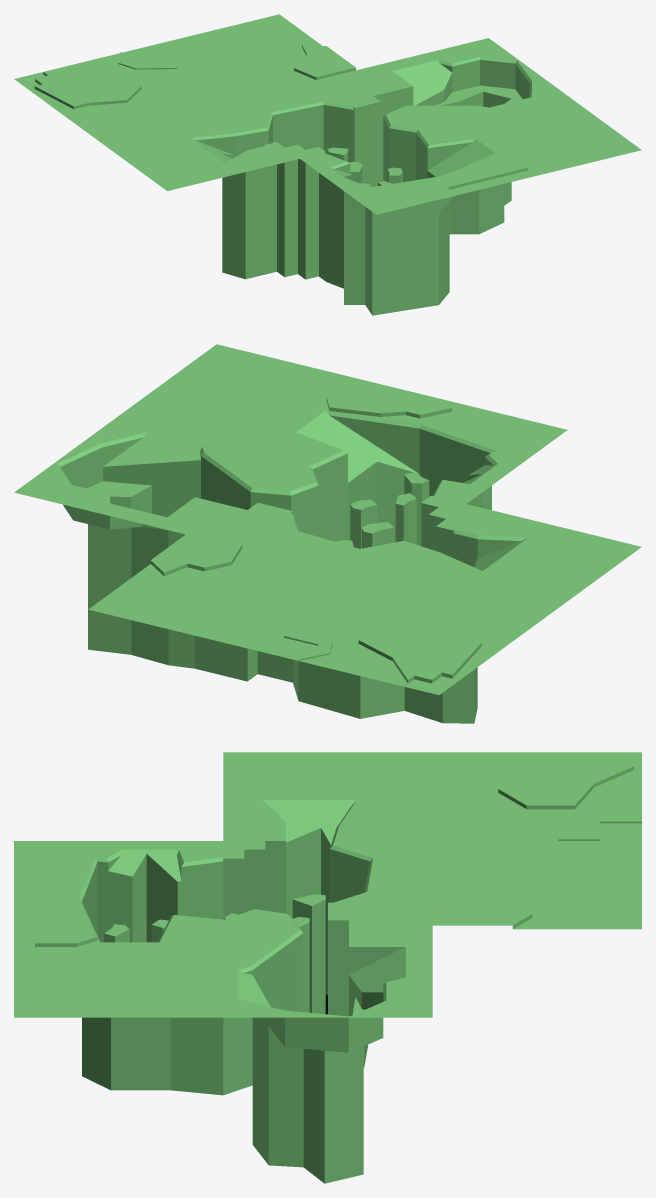
Rendered from x_oo_ground_42_Y5_4_1_rmstrd.fbx.
The picture shows the model from 3 angles, top to bottom: view 1: azimuth 30°, elevation 25°; view 2: azimuth 150°, elevation 25°; view 3: azimuth 270°, elevation 25°; orthographic projection. The views are drawn at different scales.
Parts seen in each view (by area): view 1: x_oo_ground_42_Y5_4_1_rmstrd1; view 2: x_oo_ground_42_Y5_4_1_rmstrd1; view 3: x_oo_ground_42_Y5_4_1_rmstrd1.
Boxes of the visible parts, <box> form: x_oo_ground_42_Y5_4_1_rmstrd1: <box>14,14,641,315</box>; x_oo_ground_42_Y5_4_1_rmstrd1: <box>14,344,641,723</box>; x_oo_ground_42_Y5_4_1_rmstrd1: <box>14,752,641,1183</box>.
Bounding box in the file's own units: 30 × 9.54 × 30.
